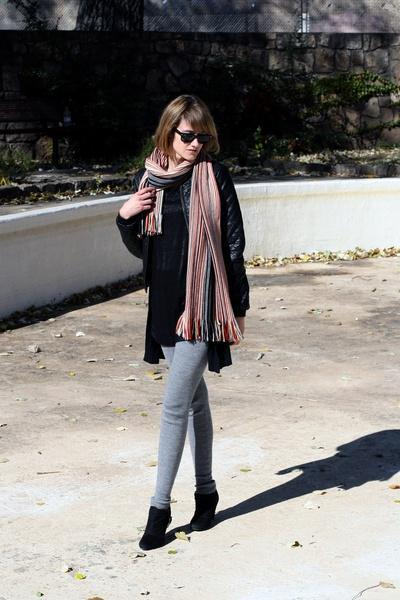jacket: (116, 170, 249, 363)
pants: (151, 333, 216, 508)
shoe: (139, 487, 221, 549)
